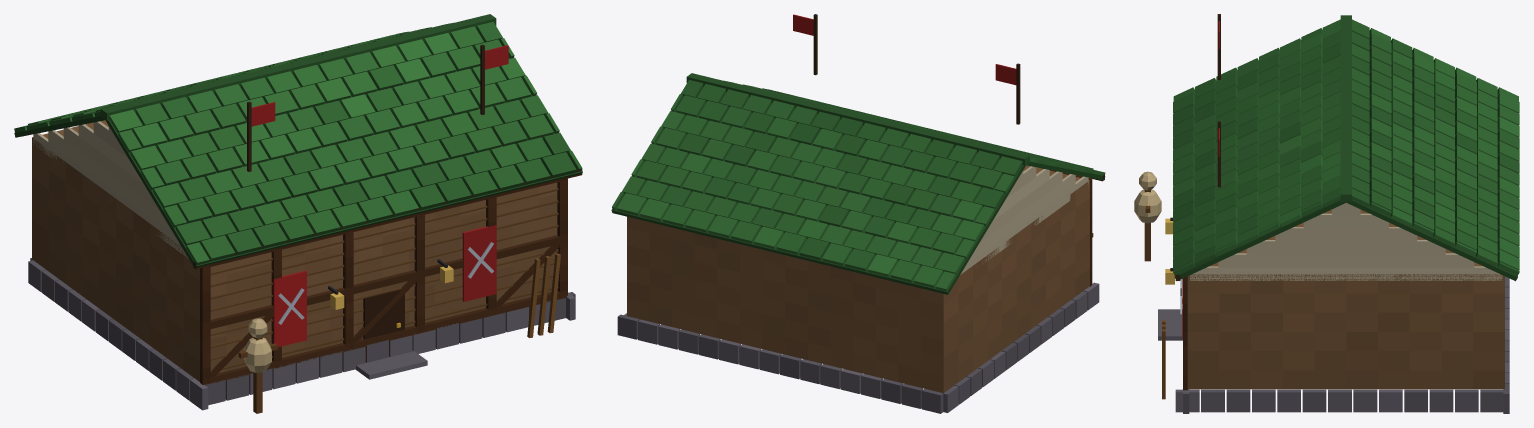
File: b_trainer.glb
3 views of the same model, side by side, from view 1: azimuth 30°, elevation 25°; view 2: azimuth 150°, elevation 25°; view 3: azimuth 270°, elevation 25° (orthographic). The views are drawn at different scales.
Parts seen in each view (by area): view 1: b_trainer; view 2: b_trainer; view 3: b_trainer.
Boxes of the visible parts, <box> form: b_trainer: <box>14,14,582,413</box>; b_trainer: <box>611,14,1105,413</box>; b_trainer: <box>1134,14,1519,413</box>.
Bounding box in the file's own units: 5.34 × 3.6 × 4.86.
